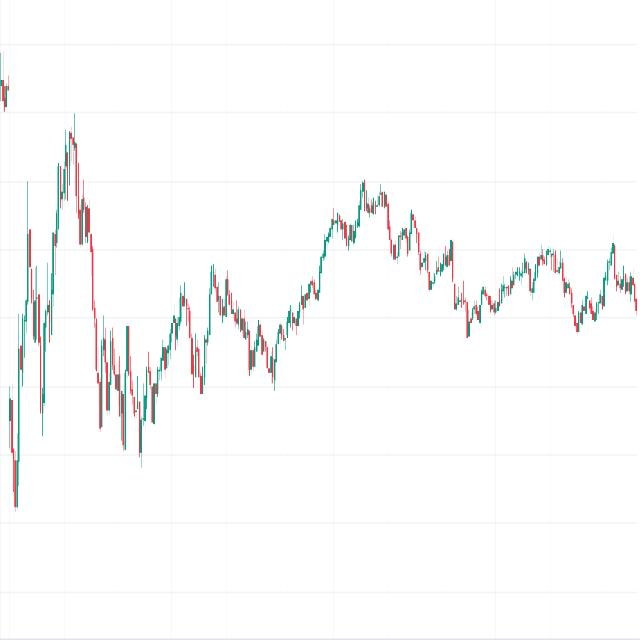Cup-and-handle: (87, 252, 218, 481)
Double-Bottom: (237, 298, 288, 408)
Rounding-Top: (303, 166, 468, 315)
